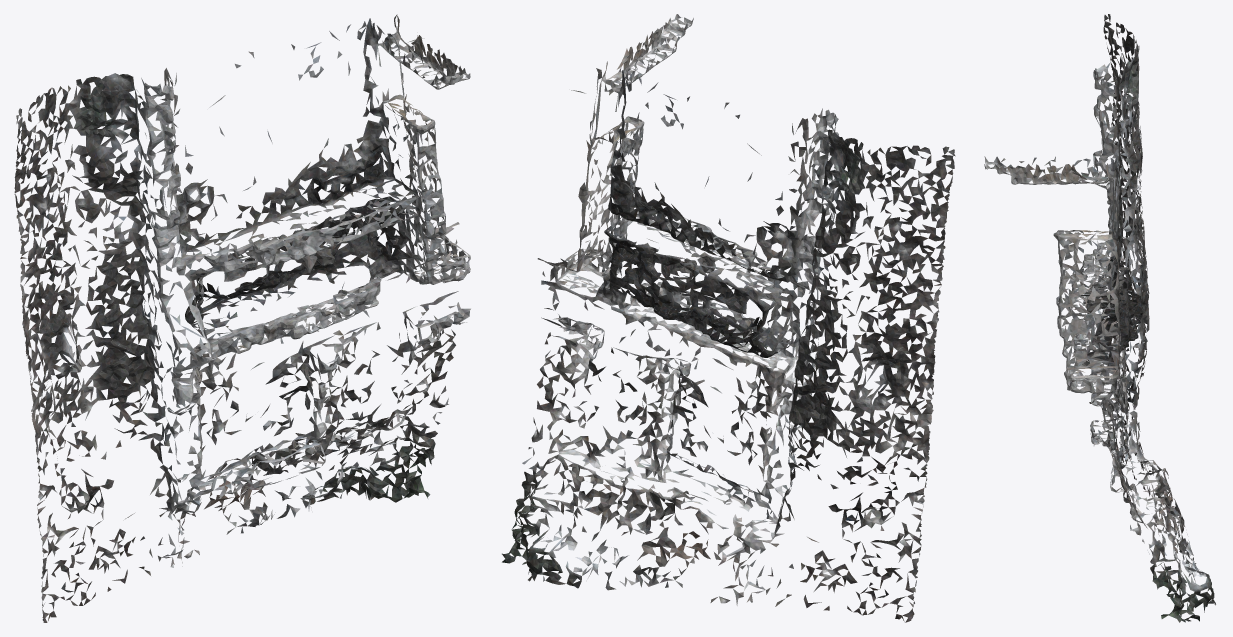
3 renders of one model, left to right at view 1: azimuth 30°, elevation 25°; view 2: azimuth 150°, elevation 25°; view 3: azimuth 270°, elevation 25°, orthographic. The views are drawn at different scales.
Bounding box in the file's own units: 12.49 × 14.09 × 6.81.
1 material, 1 textured.
